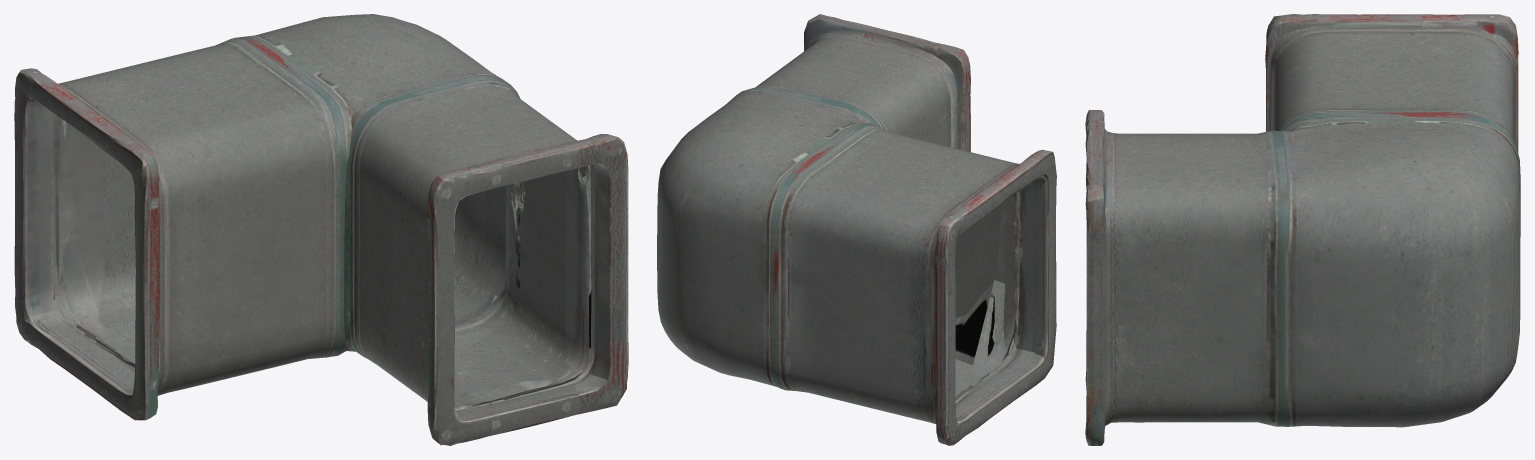
The model's file is Meshy_AI_Square_Duct_Elbow_in__0625181249_texture.fbx.
3 renders of one model, left to right at view 1: azimuth 30°, elevation 25°; view 2: azimuth 150°, elevation 25°; view 3: azimuth 270°, elevation 25°, orthographic. The views are drawn at different scales.
Parts seen in each view (by area): view 1: Mesh0; view 2: Mesh0; view 3: Mesh0.
Part boxes in pixels (x1=…): Mesh0: x1=14, y1=14, x2=628, y2=445; Mesh0: x1=657, y1=14, x2=1056, y2=445; Mesh0: x1=1085, y1=14, x2=1520, y2=445.
Size of the model in its own units: 191 by 130 by 191.
Materials: 1 (1 with a texture image).
